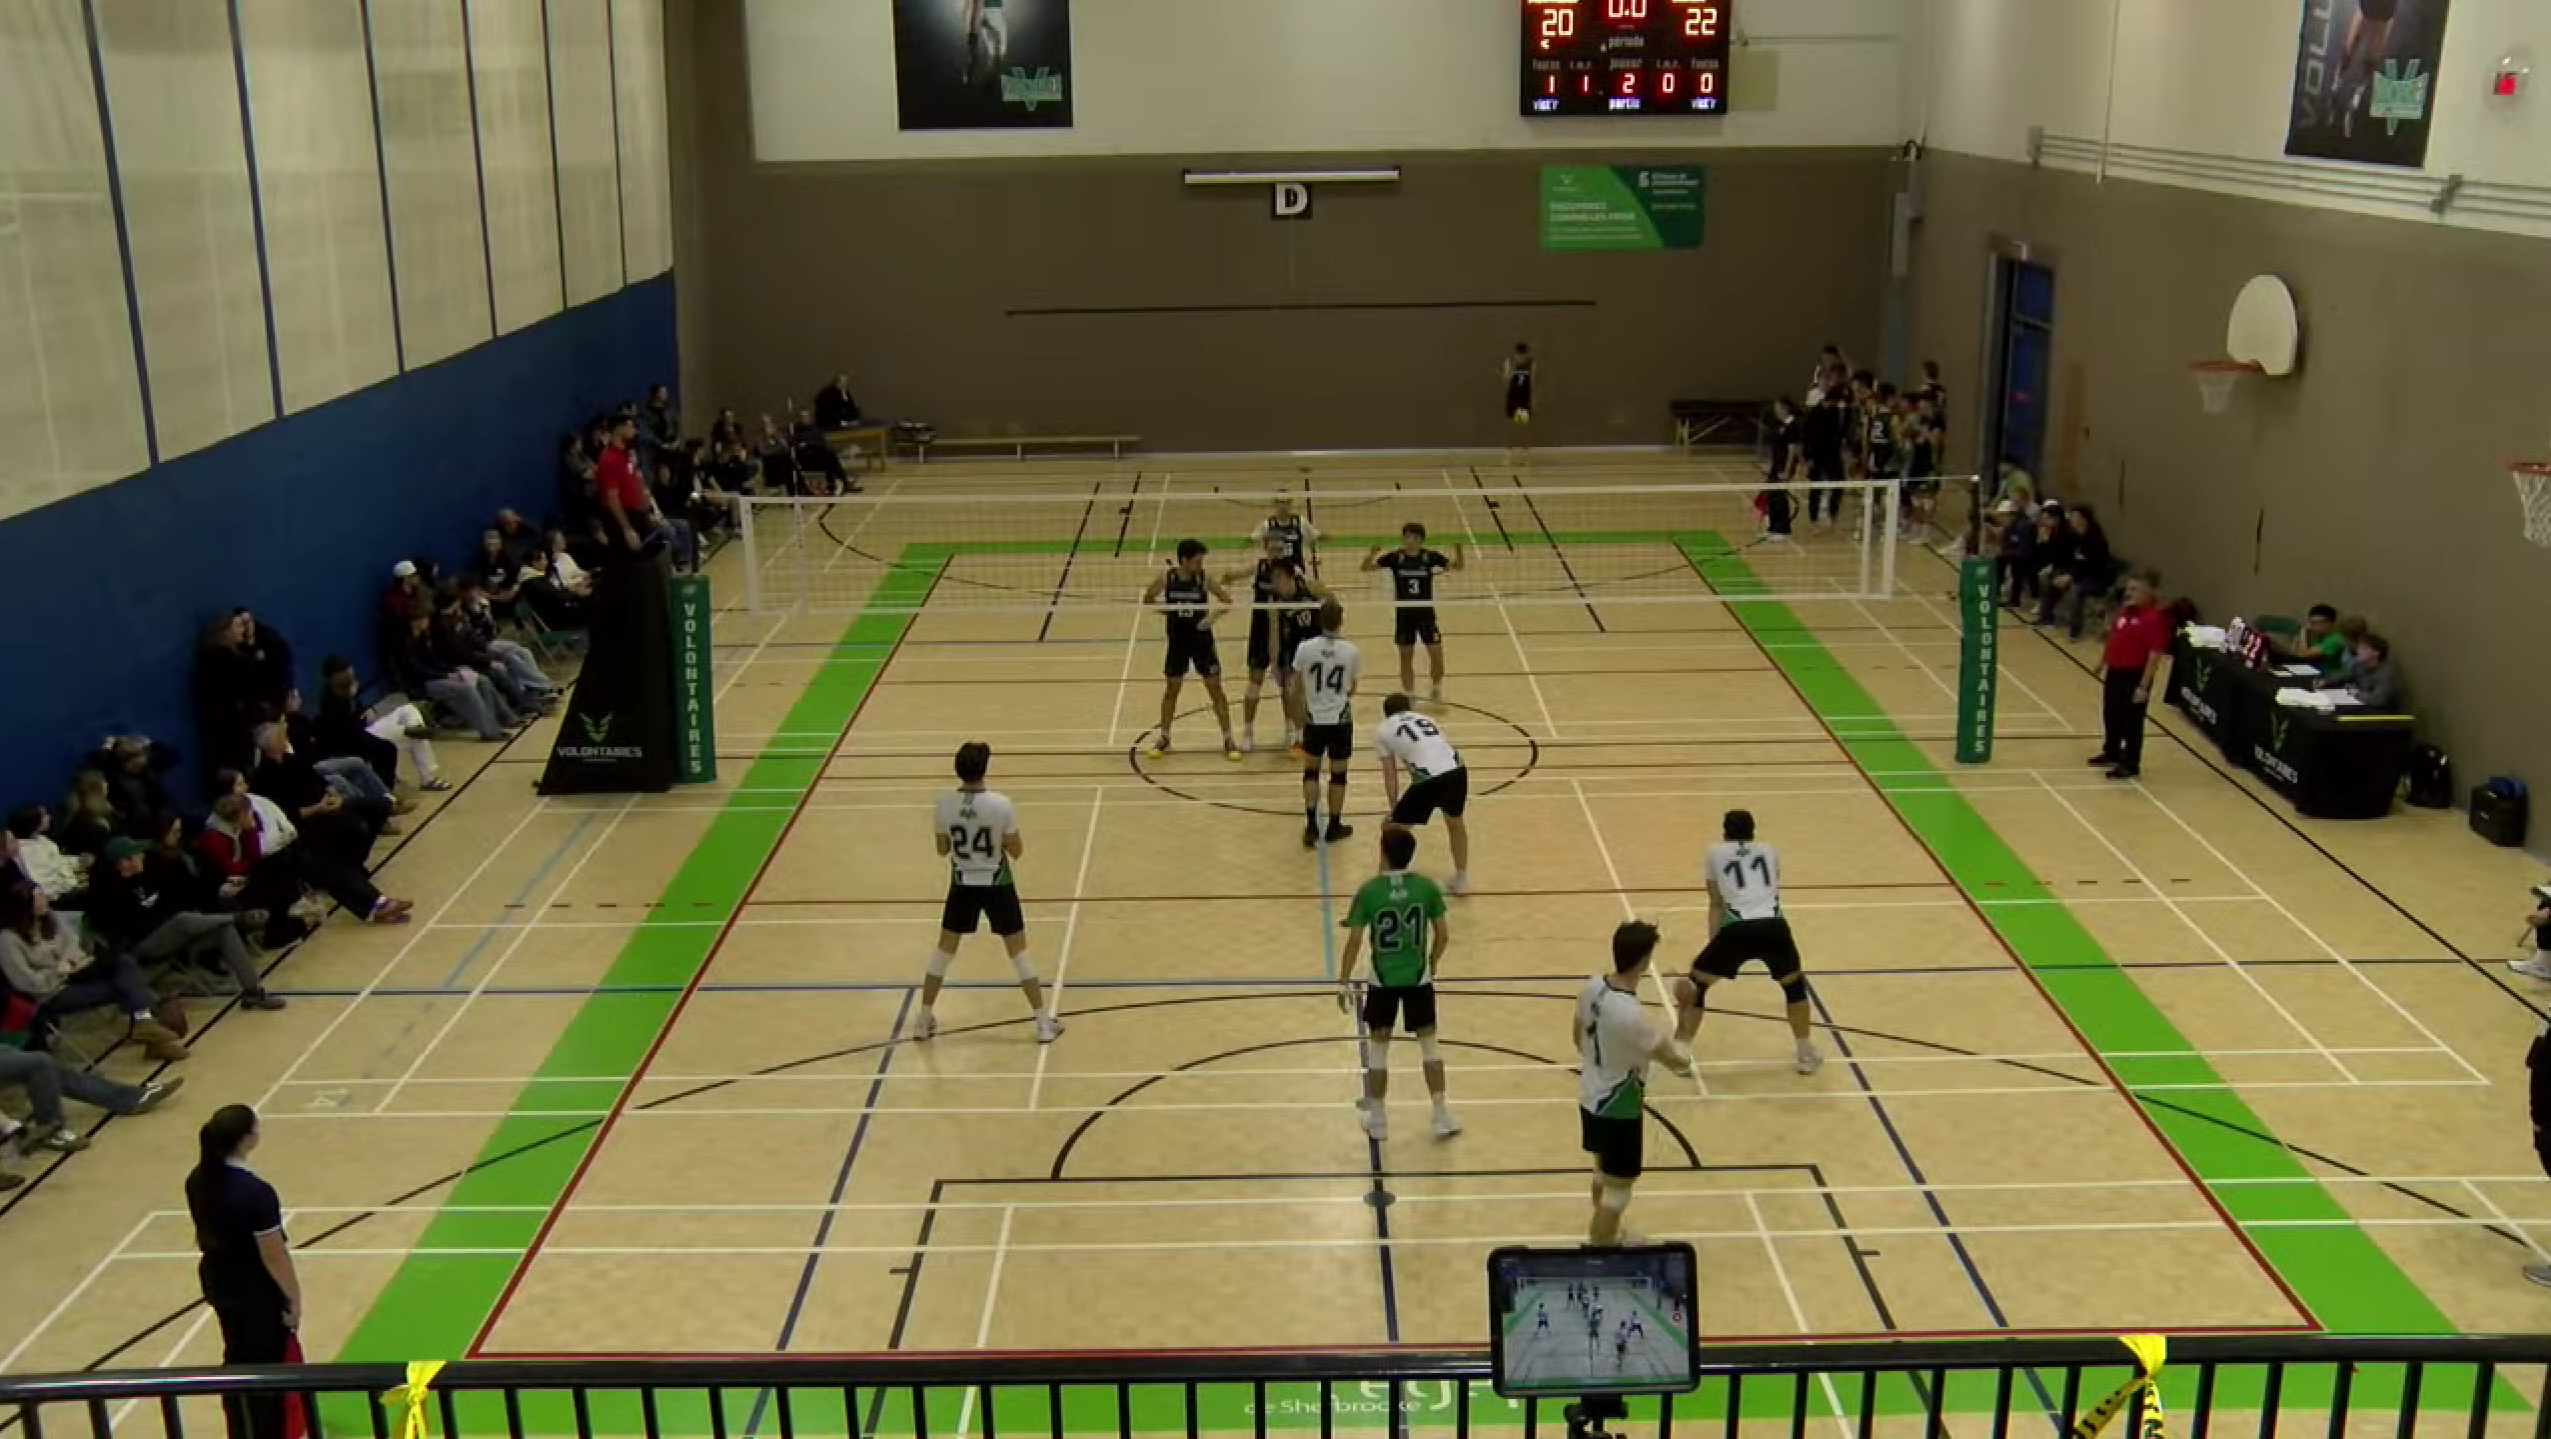Ball: (1512, 407, 1531, 428)
